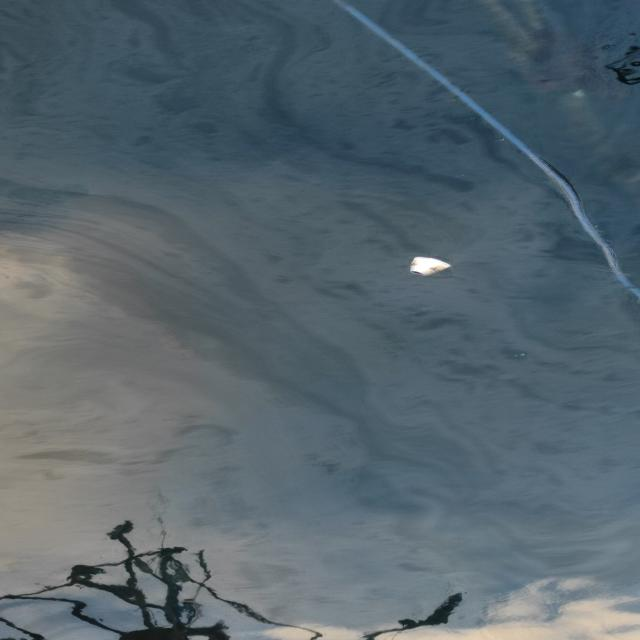Plastic cup: (408, 256, 453, 276)
